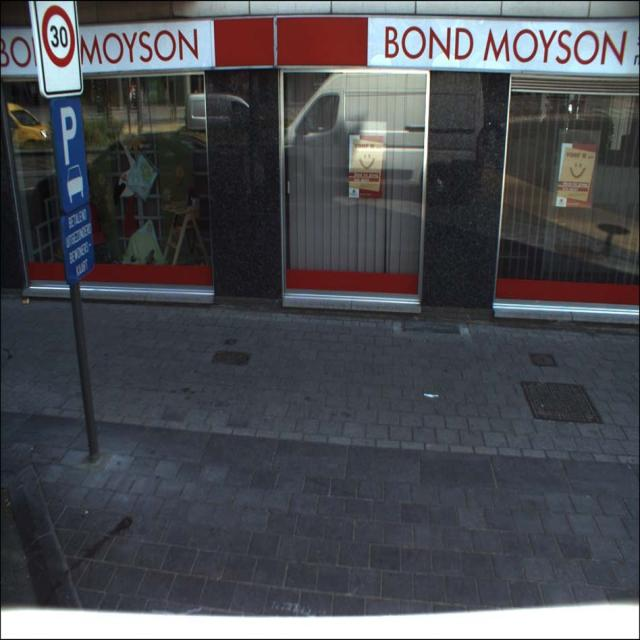park: (52, 96, 88, 213)
